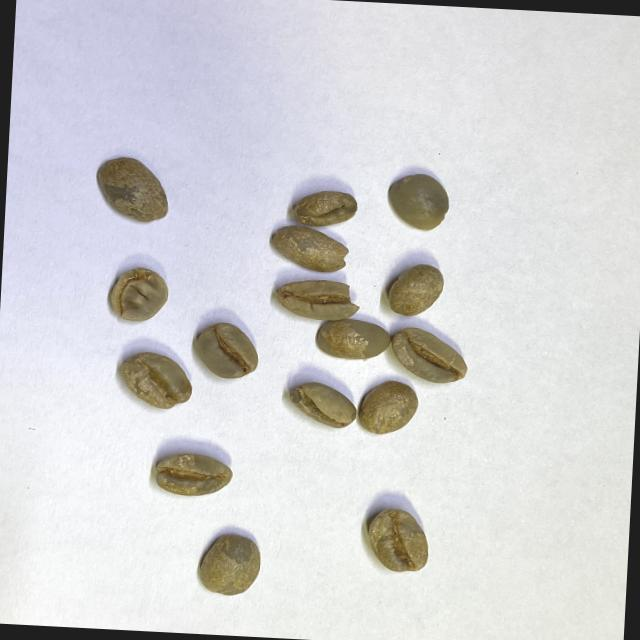bad: (117, 350, 194, 411), (266, 225, 354, 276), (271, 276, 361, 324), (106, 263, 170, 325), (286, 187, 360, 230)
good: (94, 157, 172, 226), (196, 529, 264, 598), (364, 505, 431, 574), (392, 326, 470, 384), (382, 172, 453, 234), (152, 450, 235, 500), (192, 323, 260, 381), (314, 316, 392, 364), (286, 380, 358, 430), (358, 380, 422, 436), (389, 262, 446, 320)
